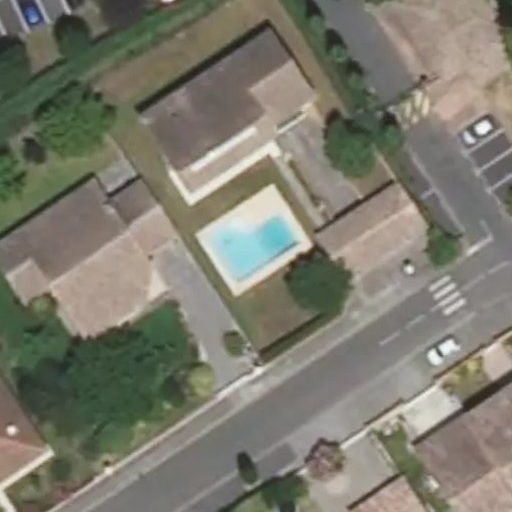pool: (209, 231, 302, 237)
